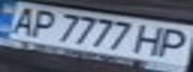7: (109, 19, 139, 53), (51, 11, 81, 44), (90, 16, 115, 50), (72, 14, 96, 47)
A: (0, 3, 42, 36)
H: (130, 23, 175, 57)
P: (151, 26, 193, 60), (21, 7, 60, 38)
